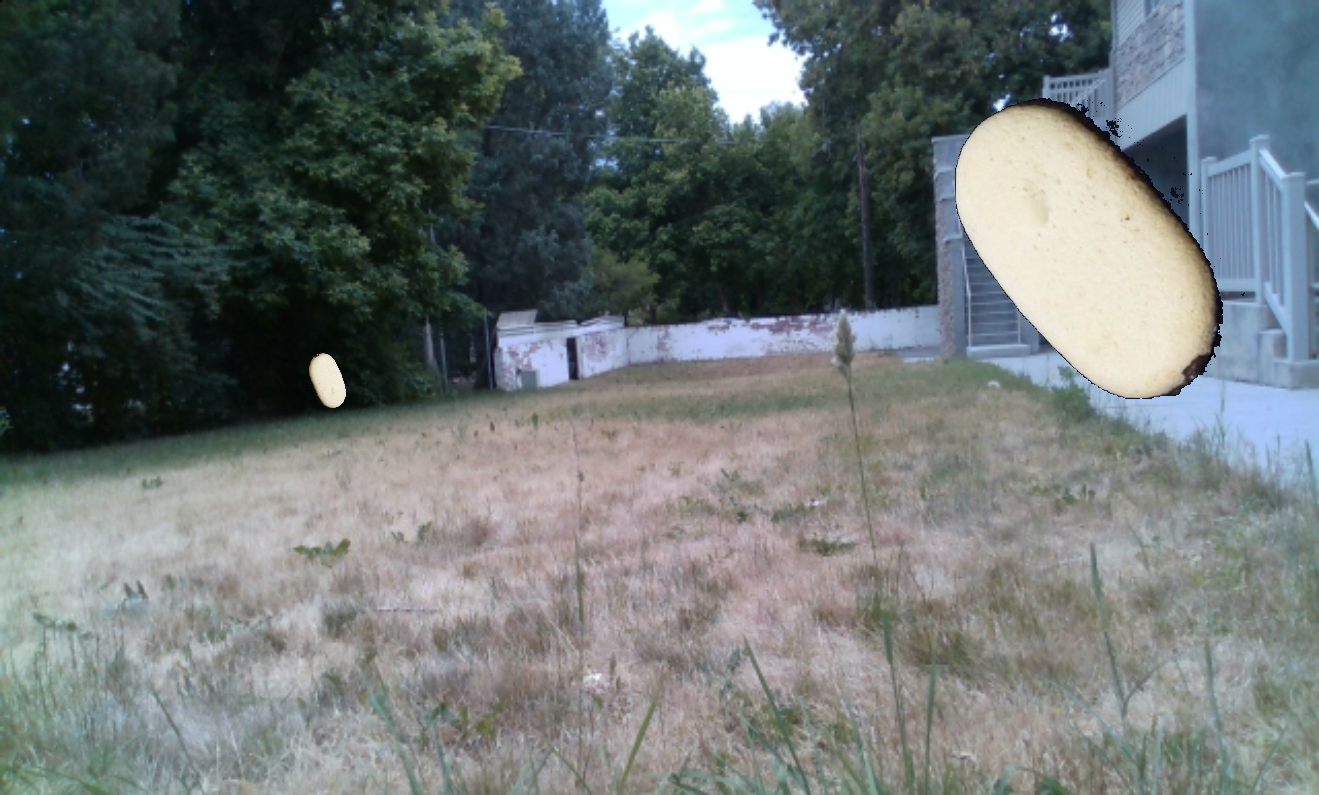test: (947, 89, 1253, 404), (292, 347, 357, 413)
